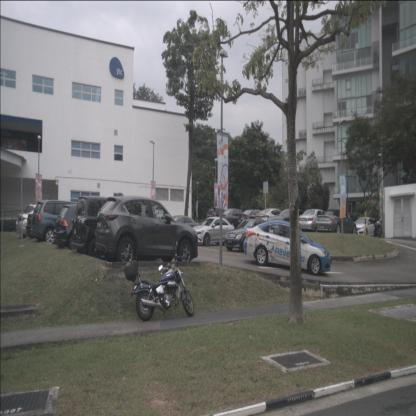vehicle-car: (96, 196, 198, 264), (70, 198, 158, 260), (243, 221, 331, 275), (53, 203, 115, 244), (33, 200, 89, 245), (225, 219, 275, 252), (191, 216, 234, 247), (316, 209, 356, 233), (298, 208, 330, 231), (219, 209, 250, 230), (207, 207, 236, 226), (255, 208, 288, 224), (354, 218, 382, 236)
vehicle-motorcycle: (124, 242, 194, 321), (373, 218, 382, 238)
